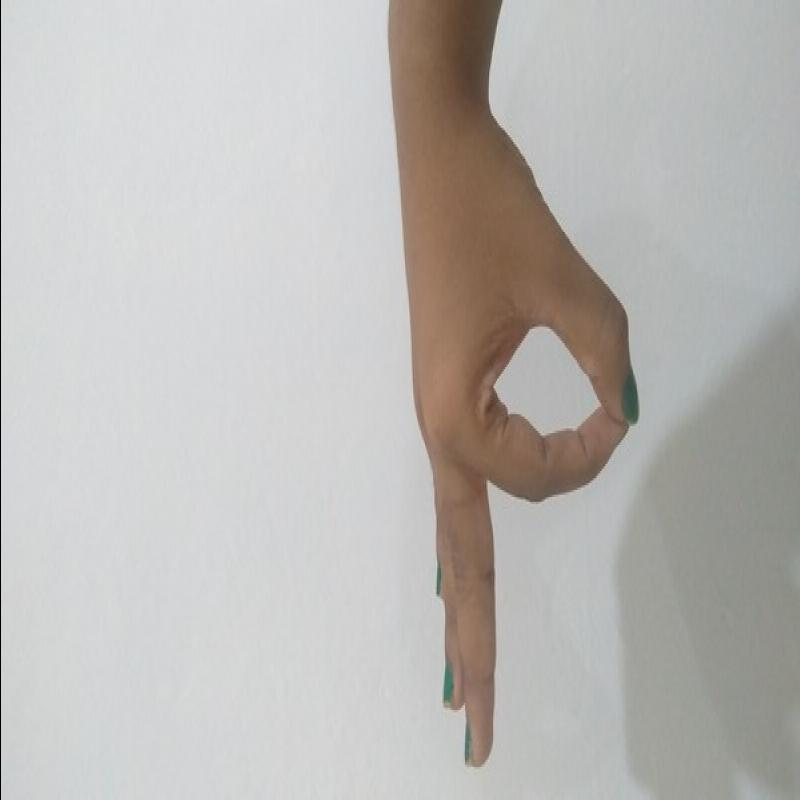Mudraakhyam: (379, 31, 654, 778)
